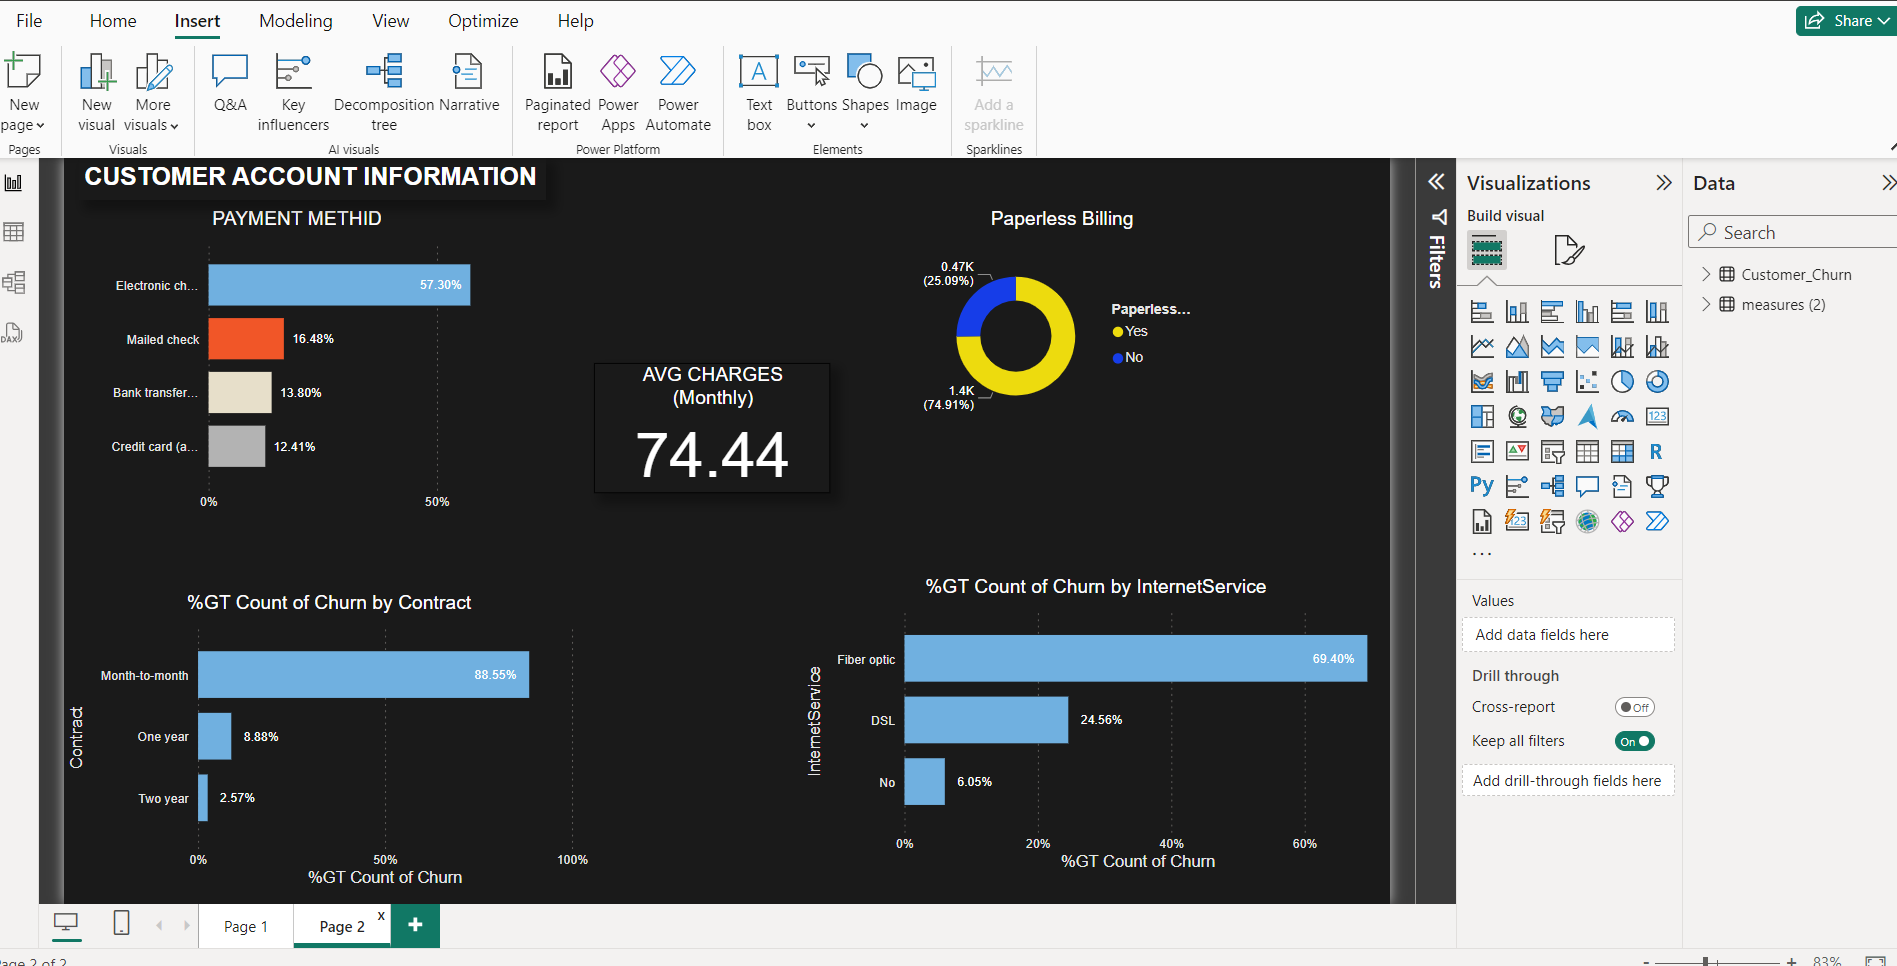

What the dashboard file says about the page in this screenshot:
{"tool":"powerbi","page":{"name":"Page 2","canvas":[1280,720],"ordinal":1},"visuals":[{"type":"barChart","title":"PAYMENT METHID","fields":{"Category":["Customer_Churn.PaymentMethod"],"Y":["CountNonNull(Customer_Churn.Churn)"]},"box":[27.8,48.2,394.5,299.5],"z":0},{"type":"donutChart","title":"Paperless Billing","fields":{"Category":["Customer_Churn.PaperlessBilling"],"Y":["CountNonNull(Customer_Churn.PaperlessBilling)"]},"box":[821.6,48.3,283.5,226.8],"z":1000},{"type":"barChart","fields":{"Category":["Customer_Churn.Contract"],"Y":["CountNonNull(Customer_Churn.Churn)"]},"box":[0,418.6,511.5,289.5],"z":2000},{"type":"barChart","fields":{"Category":["Customer_Churn.InternetService"],"Y":["CountNonNull(Customer_Churn.Churn)"]},"box":[711.8,403,568.2,289.5],"z":3000},{"type":"textbox","box":[14.6,0,450,40.9],"z":4000},{"type":"card","title":"AVG CHARGES (Monthly)","fields":{"Values":["Avg(Customer_Churn.MonthlyCharges)"]},"box":[511.5,197.9,228,125.5],"z":5000}]}

Visuals, with their boxes on the page's 1280x720 design canvas (x1, y1, x2, y2). These are canvas units, not pixel positions in the 1897x966 screenshot, which may show the page scaled, cropped or inside an application window:
"PAYMENT METHID" barChart: {"left": 28, "top": 48, "right": 422, "bottom": 348}
"Paperless Billing" donutChart: {"left": 822, "top": 48, "right": 1105, "bottom": 275}
barChart - Customer_Churn.Contract x CountNonNull(Customer_Churn.Churn): {"left": 0, "top": 419, "right": 512, "bottom": 708}
barChart - Customer_Churn.InternetService x CountNonNull(Customer_Churn.Churn): {"left": 712, "top": 403, "right": 1280, "bottom": 692}
textbox: {"left": 15, "top": 0, "right": 465, "bottom": 41}
"AVG CHARGES (Monthly)" card: {"left": 512, "top": 198, "right": 740, "bottom": 323}
